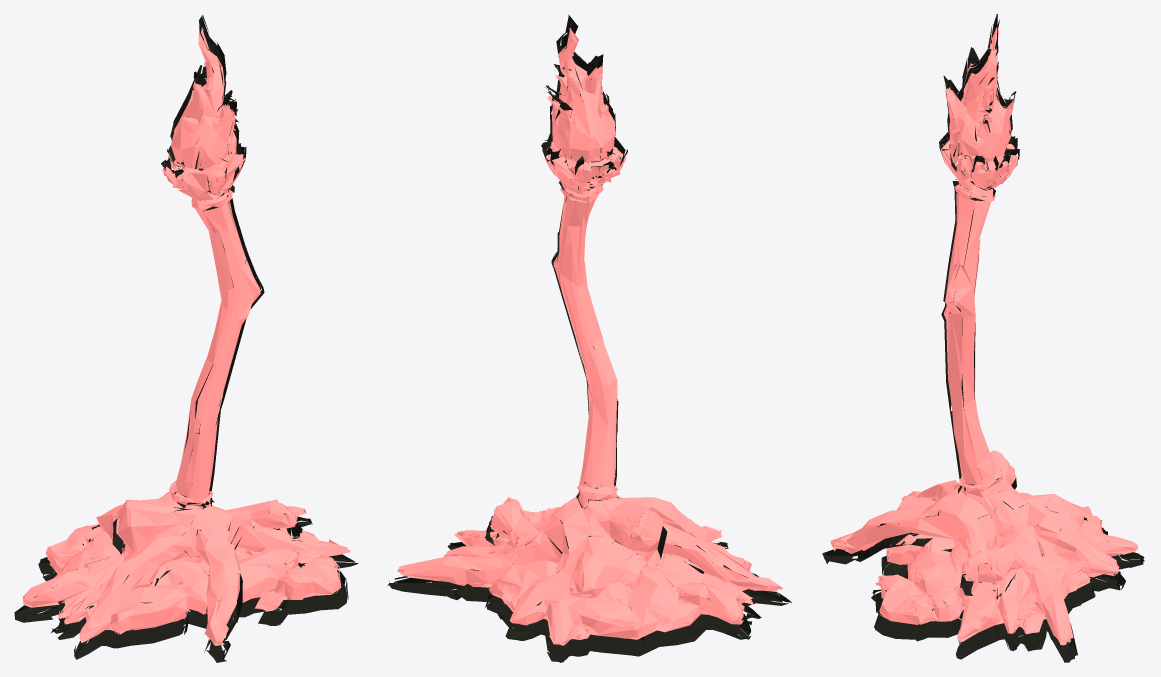
Rendered from df_v2_torch_prop_e_a.glb.
3 views of the same model, side by side, from view 1: azimuth 30°, elevation 25°; view 2: azimuth 150°, elevation 25°; view 3: azimuth 270°, elevation 25° (orthographic). The views are drawn at different scales.
Visible parts, largest first — view 1: torch_prop_e_mesh_01, torch_prop_e_mesh_01_ink_outline; view 2: torch_prop_e_mesh_01, torch_prop_e_mesh_01_ink_outline; view 3: torch_prop_e_mesh_01, torch_prop_e_mesh_01_ink_outline.
Part boxes in pixels (x1,y1,x2,y2): torch_prop_e_mesh_01: (22,28,350,645); torch_prop_e_mesh_01_ink_outline: (14,15,358,662); torch_prop_e_mesh_01: (397,28,782,645); torch_prop_e_mesh_01_ink_outline: (387,14,791,662); torch_prop_e_mesh_01: (830,27,1138,645); torch_prop_e_mesh_01_ink_outline: (822,14,1144,662).
Size of the model in its own units: 1.05 by 1.76 by 0.8932.
